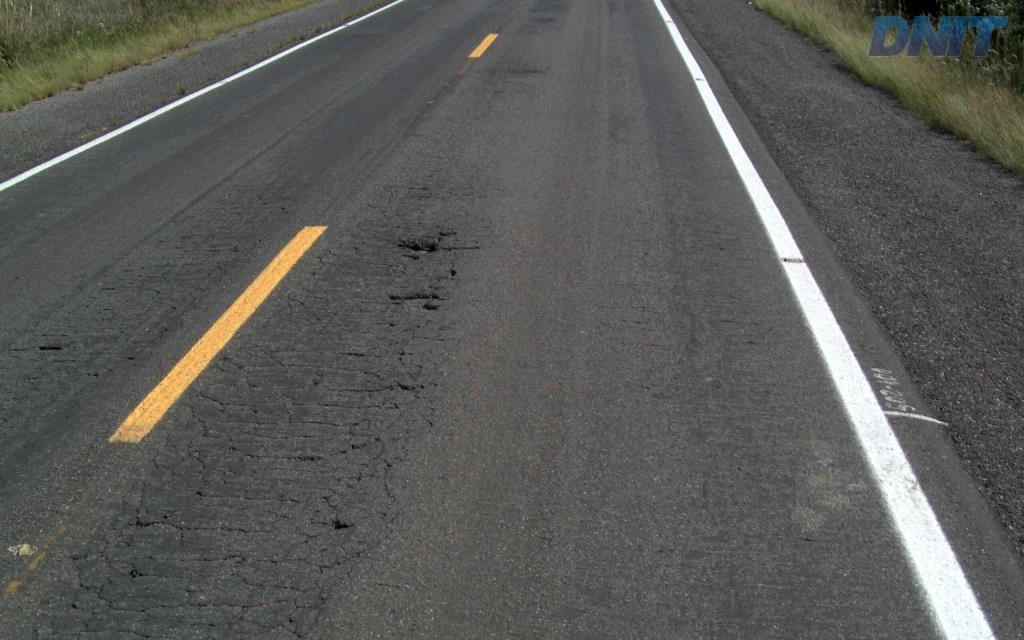crack: (123, 506, 191, 530)
